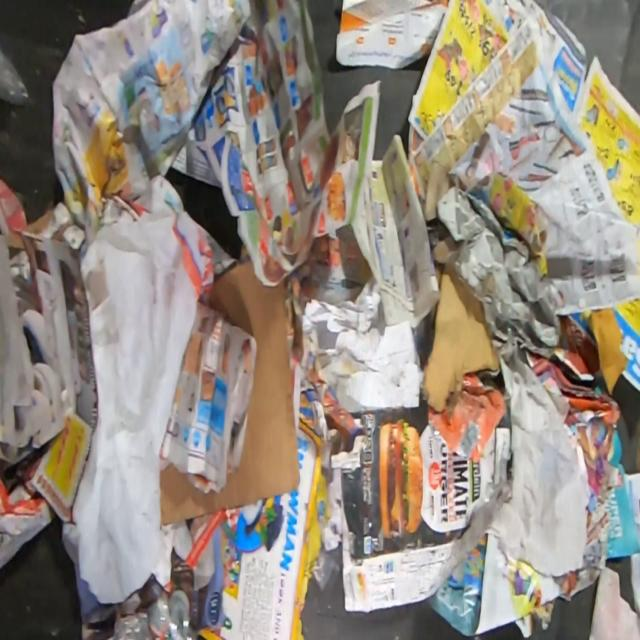cardboard: (160, 259, 300, 526), (330, 399, 512, 559), (0, 200, 97, 492), (423, 262, 500, 412)
rigid_plastic: (106, 588, 192, 640)
soft_plastic: (0, 36, 30, 105)
